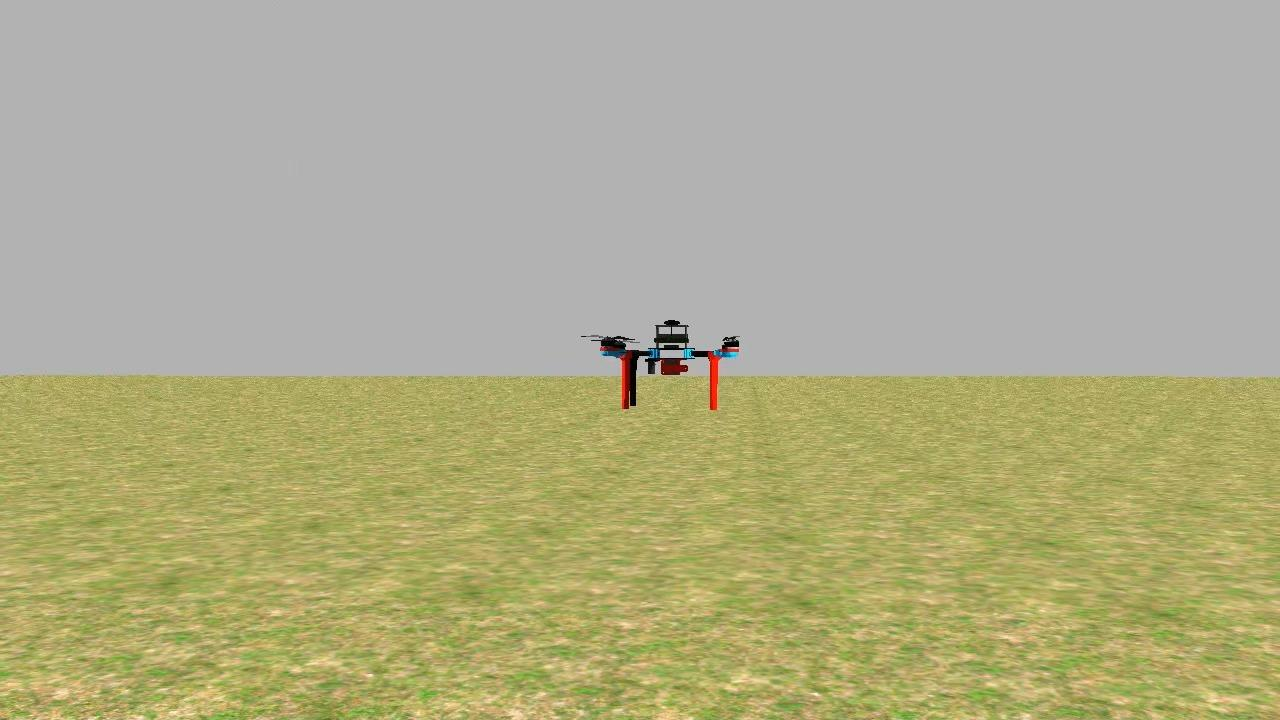UAV: (583, 307, 751, 422)
